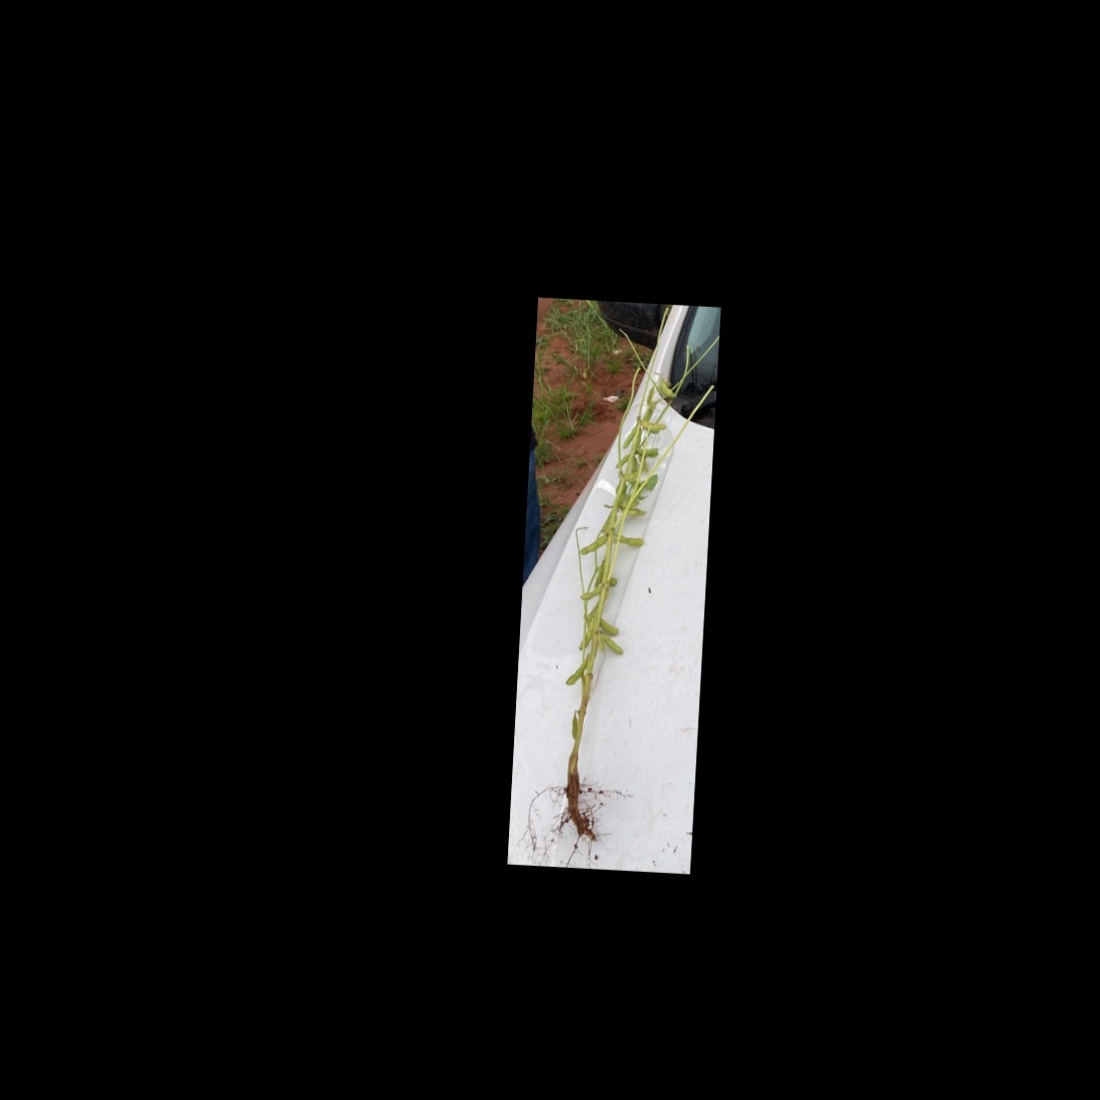pod: (558, 650, 589, 688), (576, 528, 610, 560), (578, 581, 603, 605), (600, 633, 626, 657), (616, 532, 645, 548), (597, 616, 620, 637), (568, 712, 579, 741)
soy: (553, 331, 680, 837)
